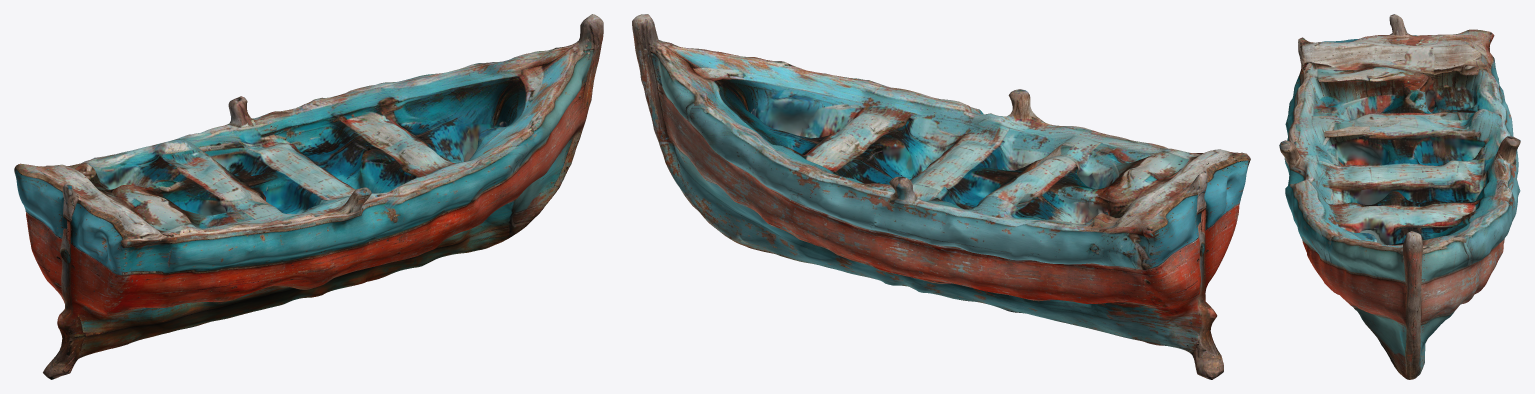
Rendered from faded-wooden-rowboat.glb.
The picture shows the model from 3 angles, left to right: view 1: azimuth 30°, elevation 25°; view 2: azimuth 150°, elevation 25°; view 3: azimuth 270°, elevation 25°; orthographic projection. The views are drawn at different scales.
Size of the model in its own units: 1.2 by 0.4545 by 0.4736.
Materials: 1 (1 with a texture image).
